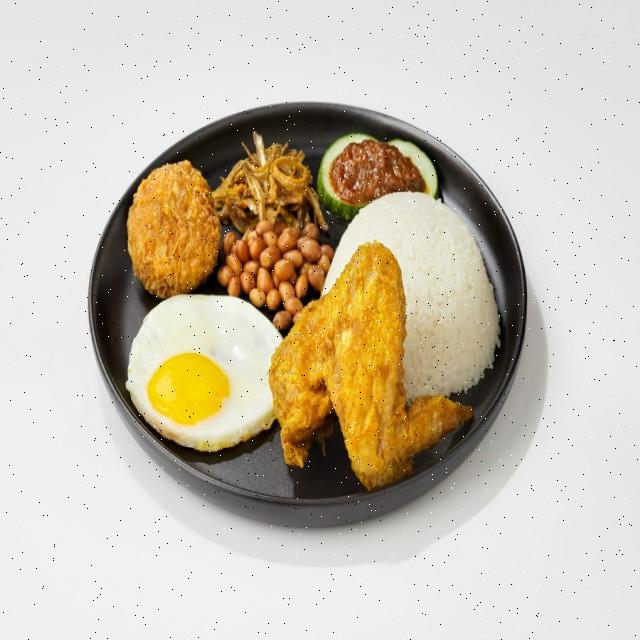Chicken: (270, 242, 472, 489)
Egg: (126, 295, 282, 450)
Green veg: (316, 133, 375, 219), (388, 141, 437, 197)
Potato: (127, 161, 220, 298)
Rice: (323, 193, 499, 400)
